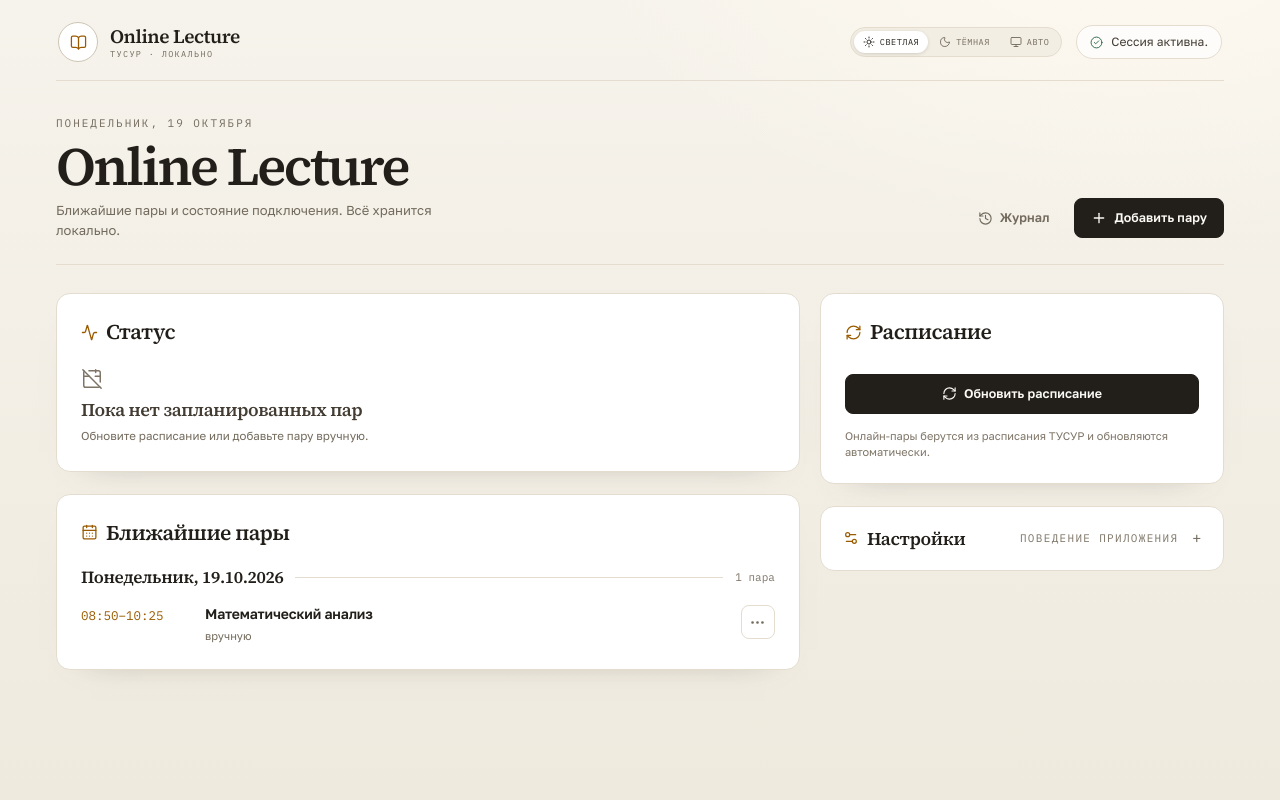
Test: main screen › keeps a delete confirmation open while pending and reports API errors
This screenshot has width=1280, height=800.
Click the button named "Действия для пары" at (758, 622), box [741,605,775,639]
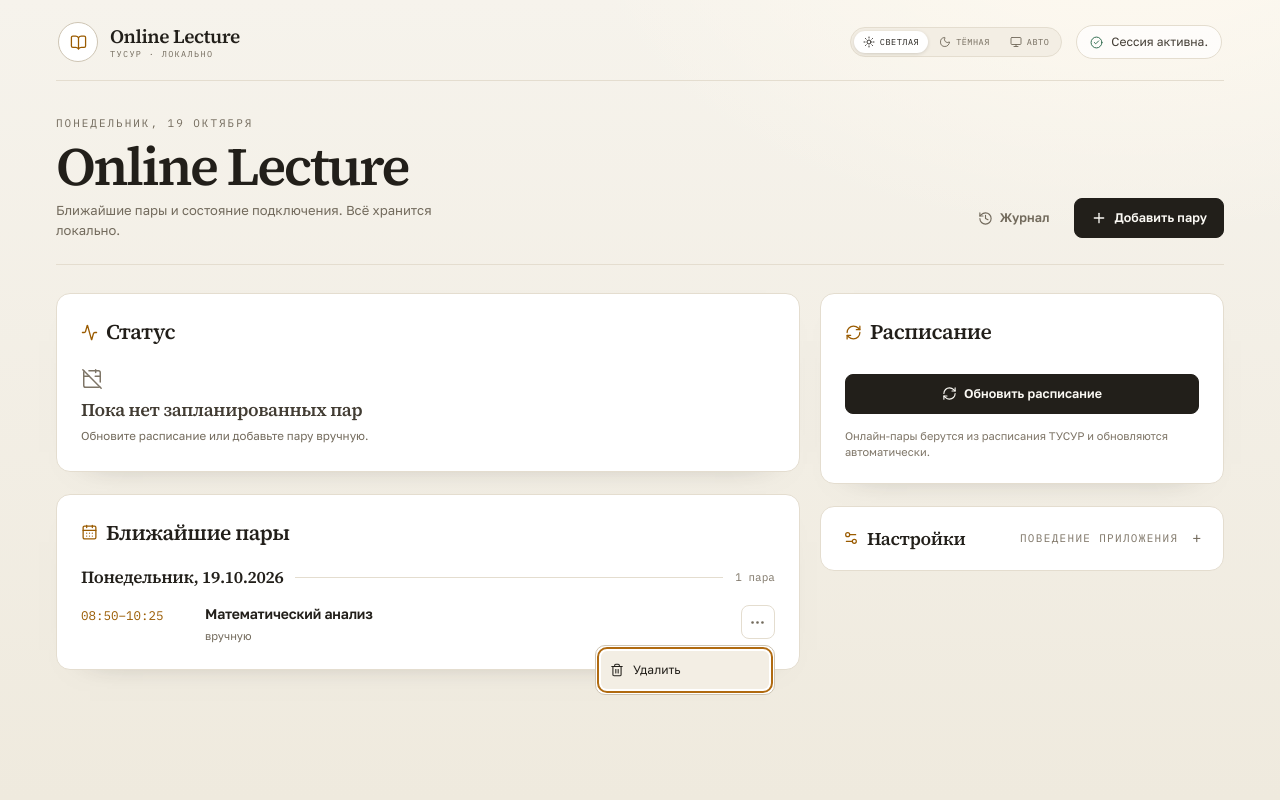
Click the menu item "Удалить" at (685, 670), box [601,651,769,689]
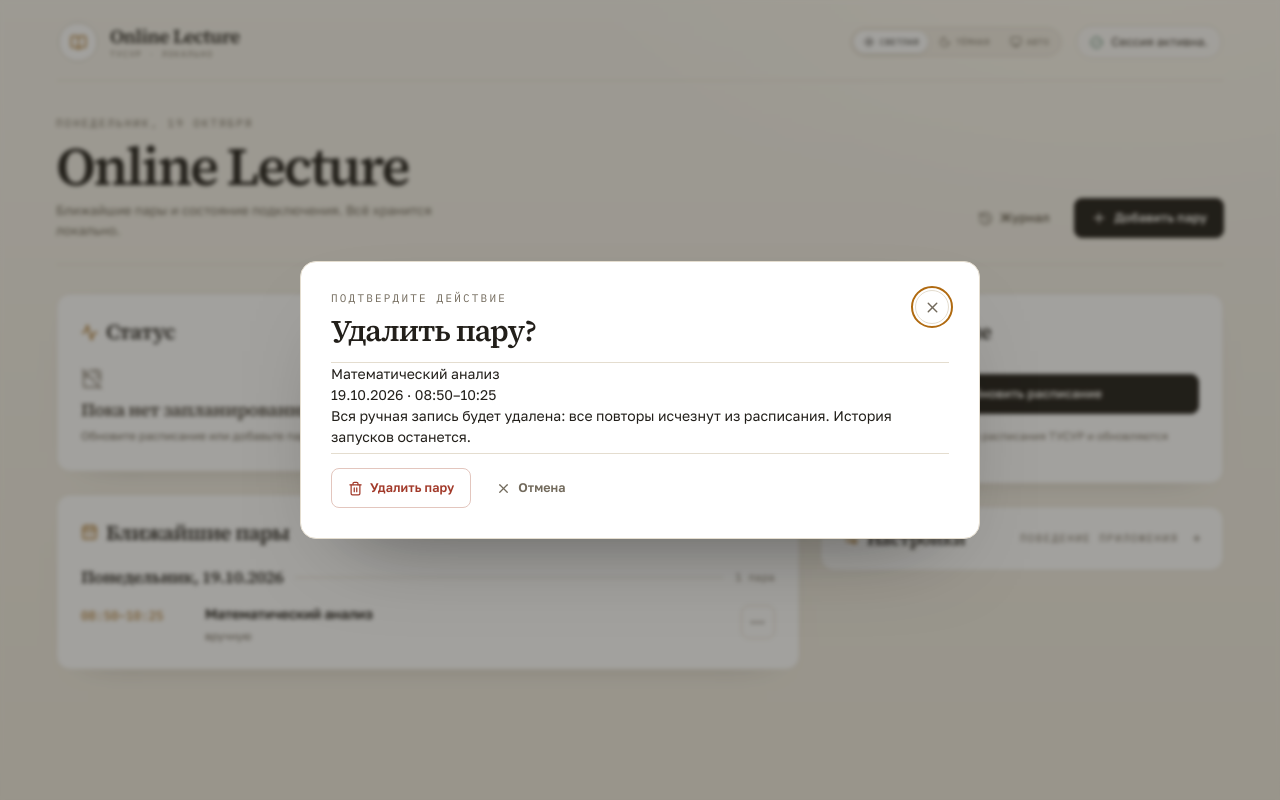
Click the button "Удалить пару" at (401, 488), box [331,468,471,508]
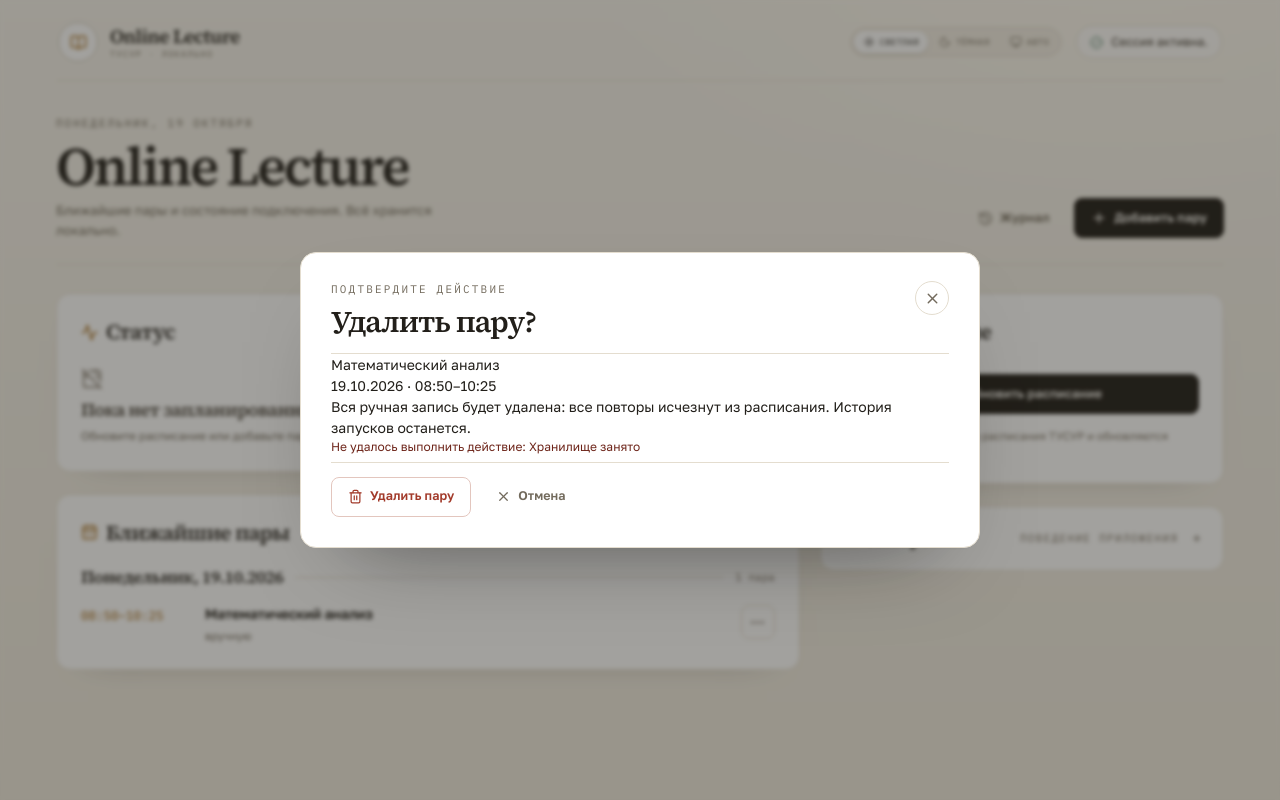
Result: the dialog "Удалить пару?" is shown at [300,252,980,548]
Result: the message shows "Хранилище занято" at [529,439,640,454]
